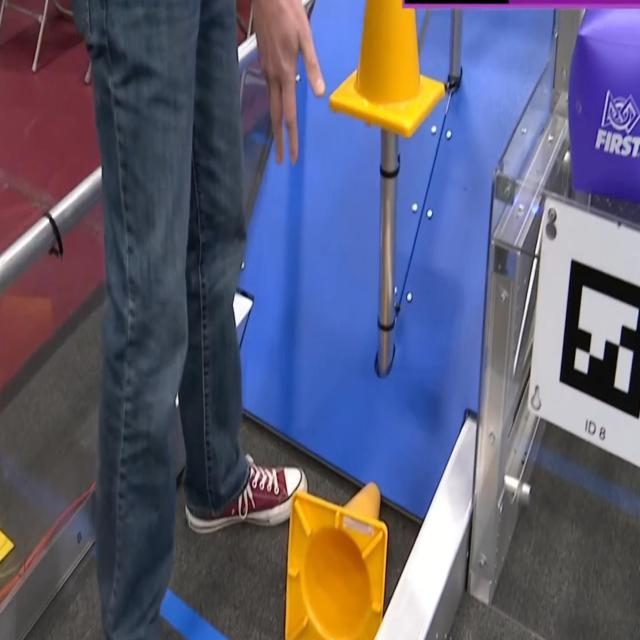frc_cone: (279, 468, 395, 640), (328, 0, 448, 135)
frc_cube: (569, 0, 640, 209)
